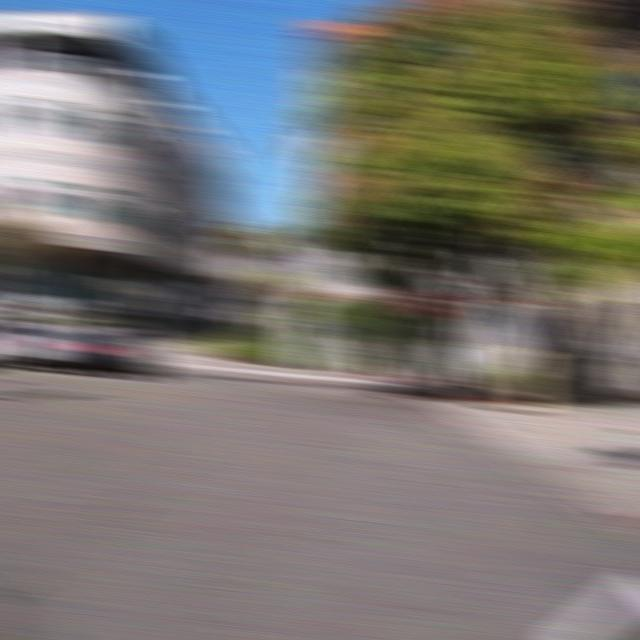stop: (403, 286, 447, 320)
